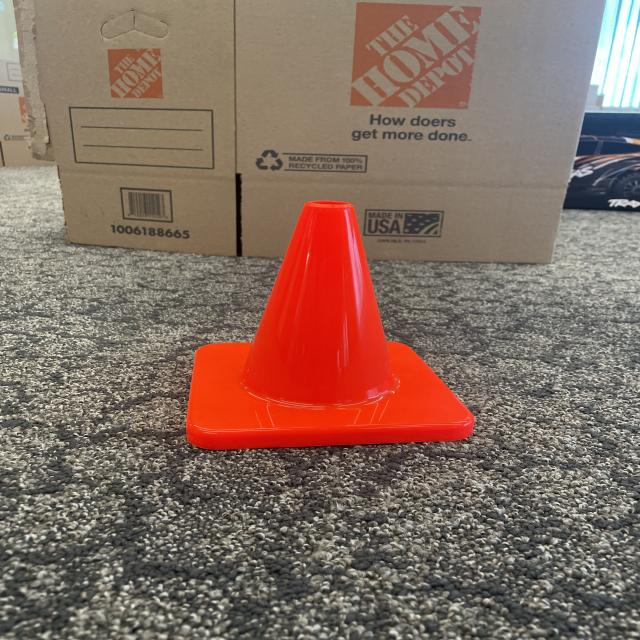Traffic Cone: (184, 197, 479, 451)
